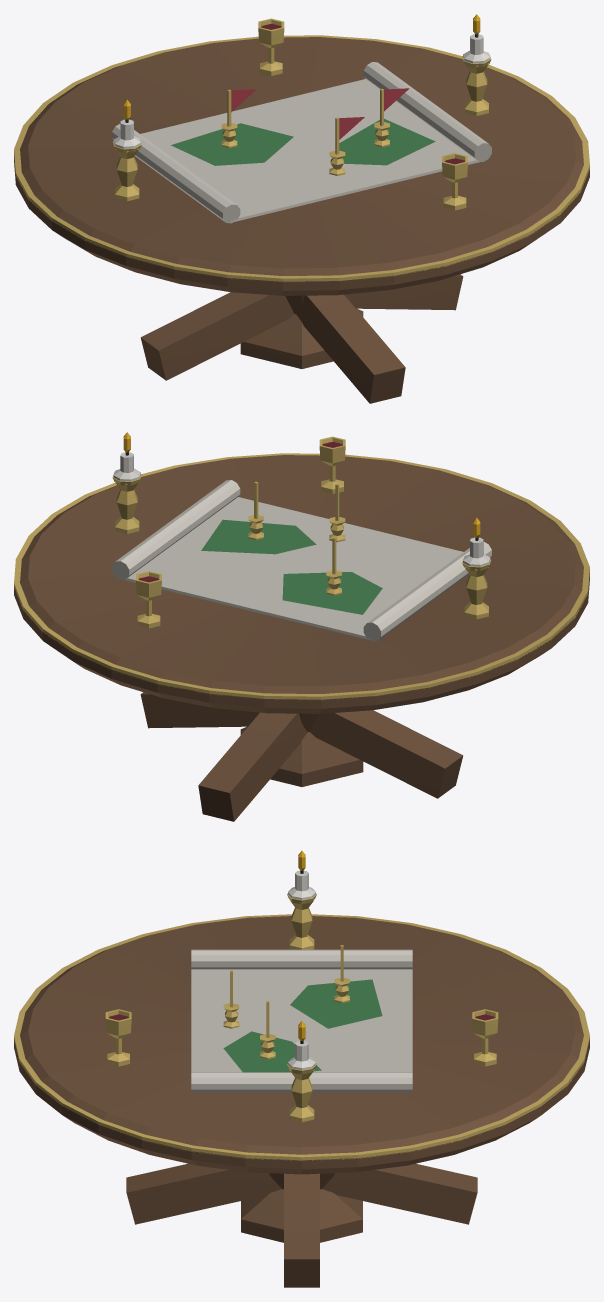
Rendered from palace_council_table.glb.
3 renders of one model, top to bottom at view 1: azimuth 30°, elevation 25°; view 2: azimuth 150°, elevation 25°; view 3: azimuth 270°, elevation 25°, orthographic.
Parts seen in each view (by area): view 1: palace_council_table; view 2: palace_council_table; view 3: palace_council_table.
Boxes of the visible parts, box(x1,y1,x2,y2) form: palace_council_table: box(14, 14, 589, 403); palace_council_table: box(14, 432, 589, 821); palace_council_table: box(14, 851, 589, 1287).
Bounding box in the file's own units: 2.86 × 1.54 × 2.86.
